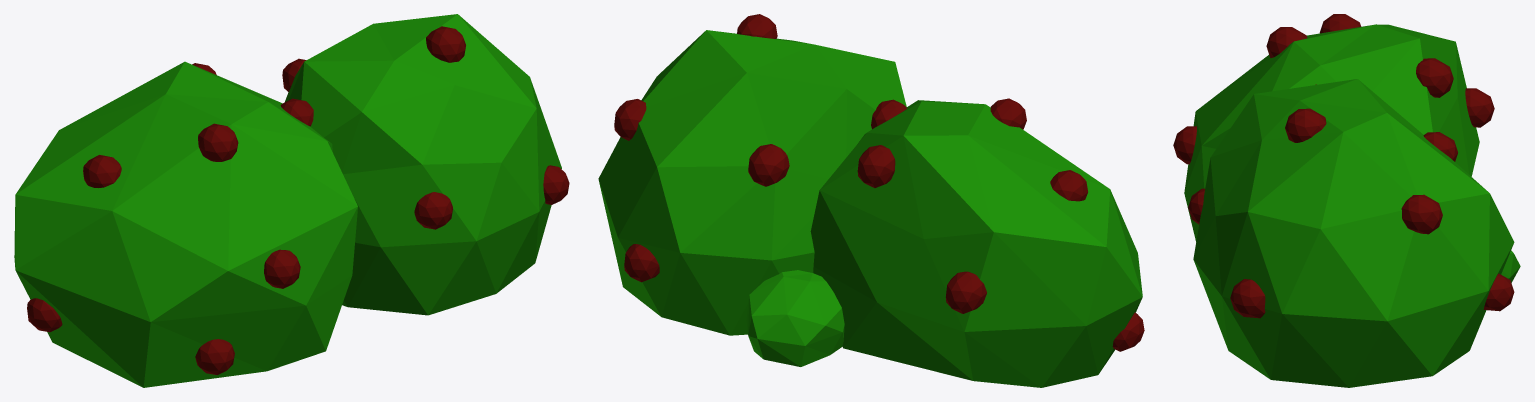
The model's file is Bosje_1.fbx.
The picture shows the model from 3 angles, left to right: view 1: azimuth 30°, elevation 25°; view 2: azimuth 150°, elevation 25°; view 3: azimuth 270°, elevation 25°; orthographic projection. The views are drawn at different scales.
Parts seen in each view (by area): view 1: Bosje, Berries; view 2: Bosje, Berries; view 3: Bosje, Berries.
Part boxes in pixels (x1,y1,x2,y2): Bosje: (14, 14, 561, 387); Berries: (27, 26, 569, 374); Bosje: (598, 30, 1142, 387); Berries: (614, 14, 1144, 351); Bosje: (1184, 24, 1520, 387); Berries: (1173, 14, 1514, 318).
Size of the model in its own units: 397 by 186 by 233.
Materials: 2 (2 with a texture image).
